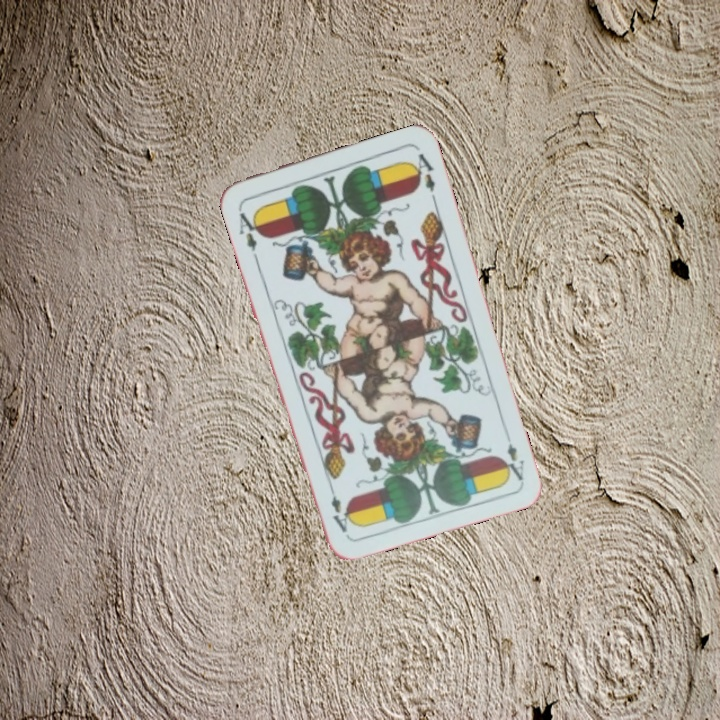EA: (234, 203, 264, 261), (498, 439, 527, 483)
